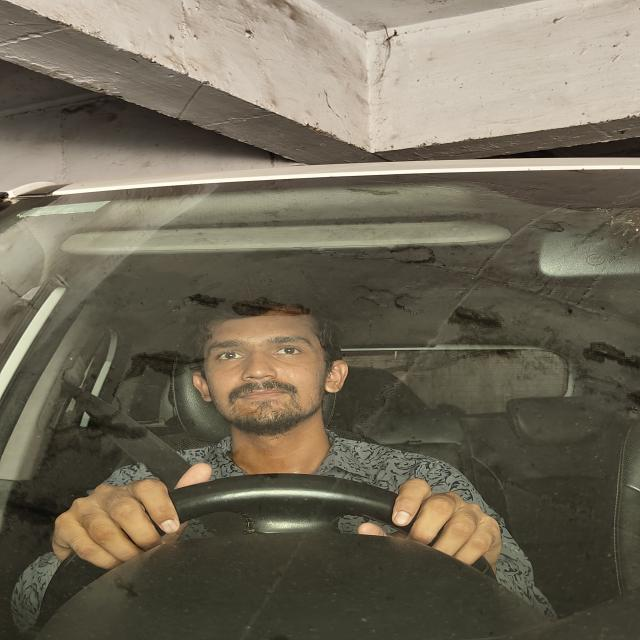seatbelt: (56, 372, 486, 608)
